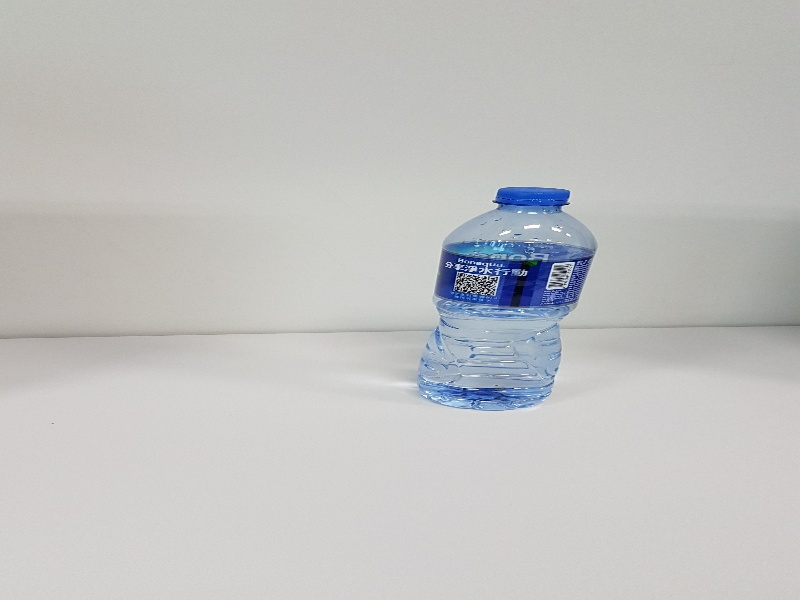Bottle: (418, 187, 600, 414)
